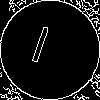I: (25, 25, 53, 73)
